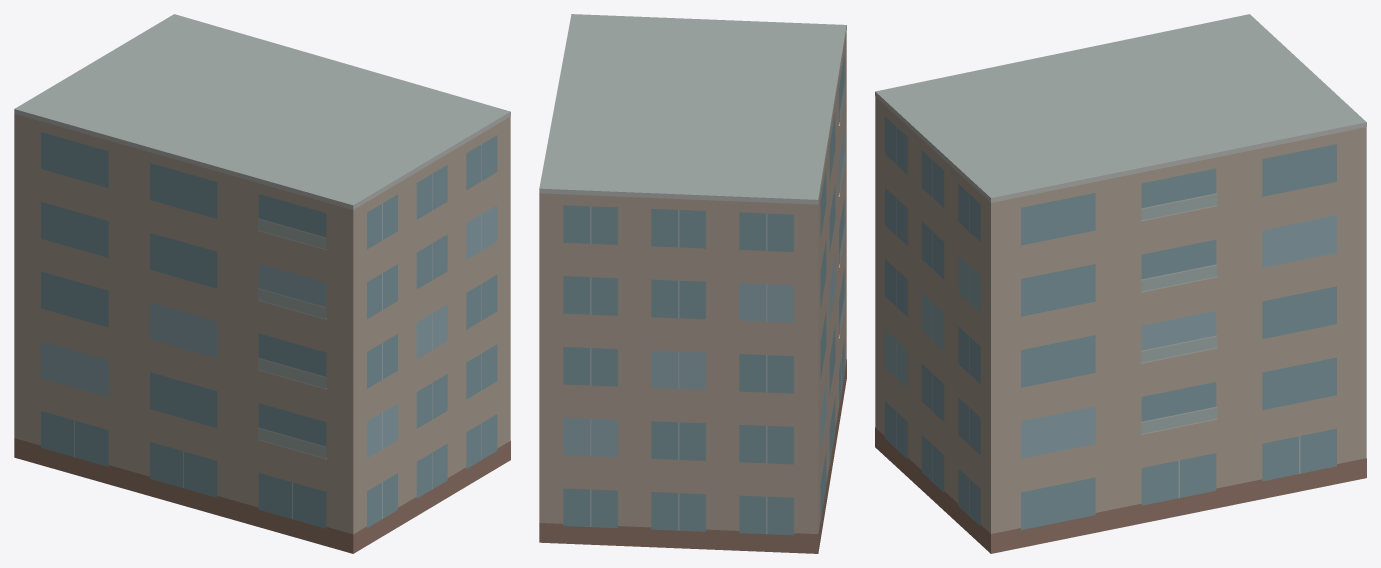
File: survey-upis-32831031.glb
The picture shows the model from 3 angles, left to right: view 1: azimuth 30°, elevation 25°; view 2: azimuth 150°, elevation 25°; view 3: azimuth 270°, elevation 25°; orthographic projection. The views are drawn at different scales.
Parts seen in each view (by area): view 1: survey-upis-32831031.tmp; view 2: survey-upis-32831031.tmp; view 3: survey-upis-32831031.tmp.
Boxes of the visible parts, x1,y1,x2,y2 form: survey-upis-32831031.tmp: [14, 14, 510, 553]; survey-upis-32831031.tmp: [539, 14, 846, 553]; survey-upis-32831031.tmp: [875, 14, 1366, 553].
Bounding box in the file's own units: 20.22 × 18.2 × 22.8.
